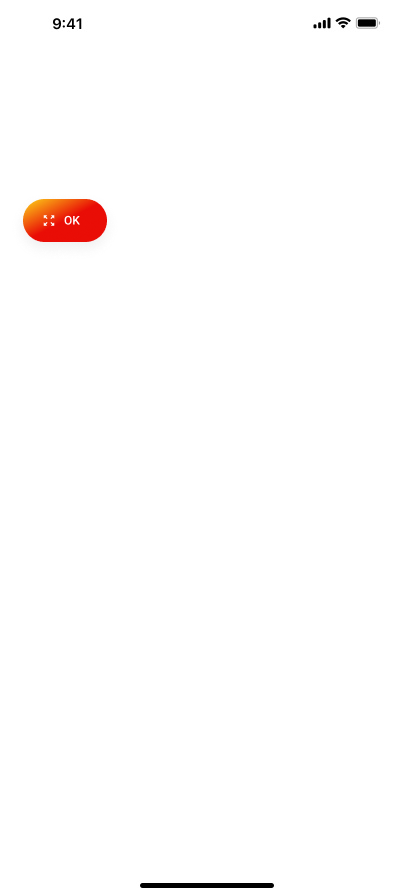Buttons: (8, 190, 122, 263)
Home Indicator: (0, 862, 414, 896)
Status Bar: (0, 0, 414, 44)
